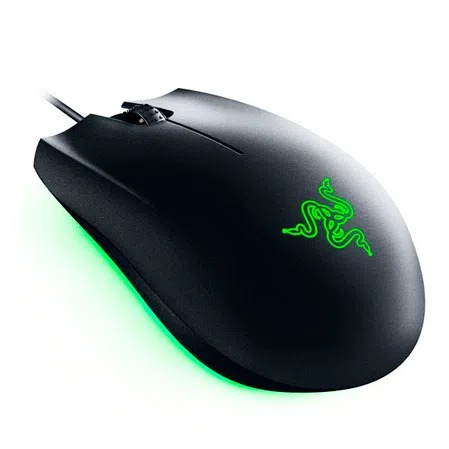mouse: (32, 79, 429, 398)
